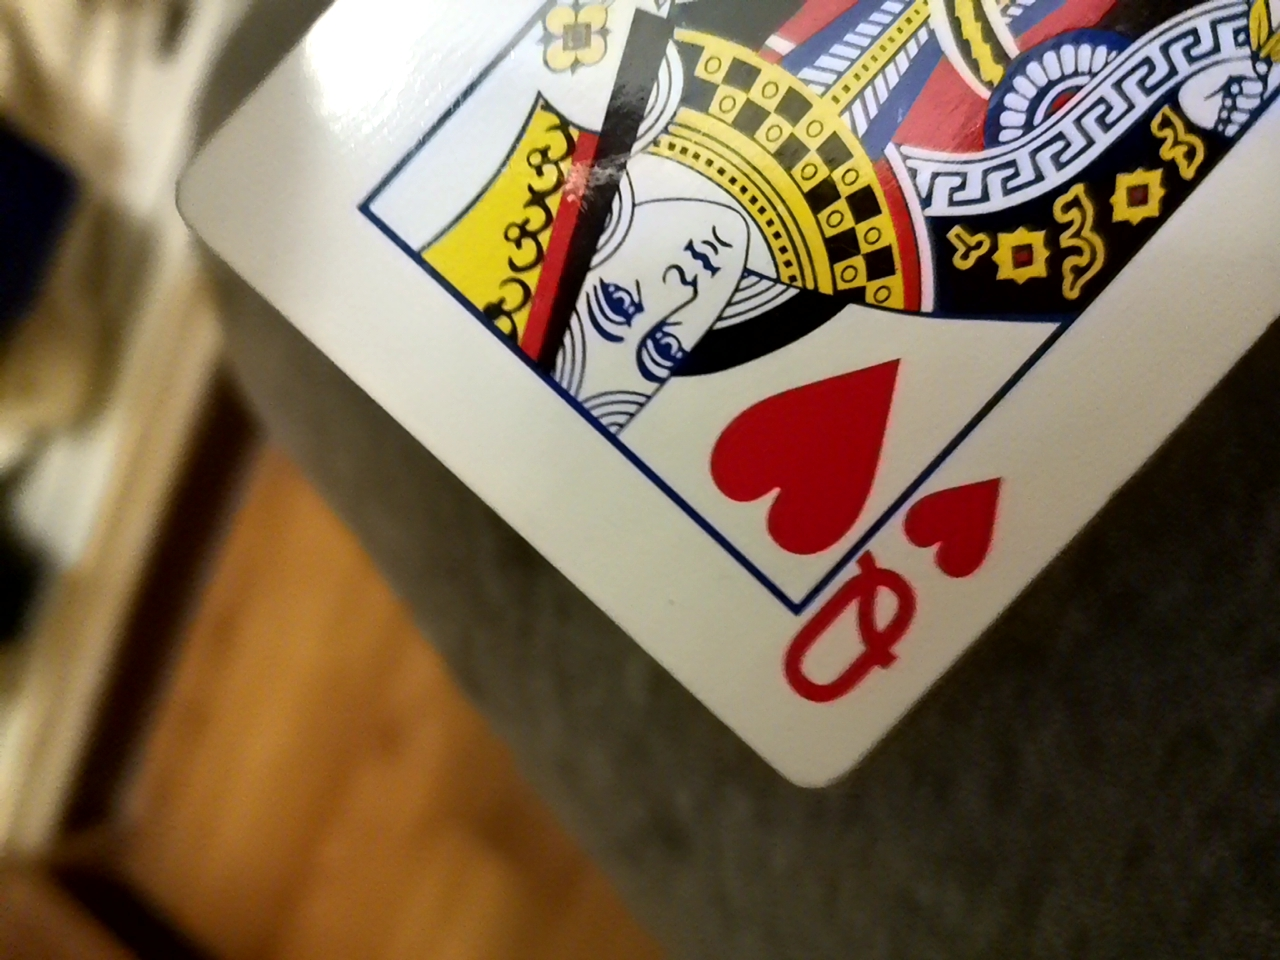hx q: (203, 3, 1269, 803)
